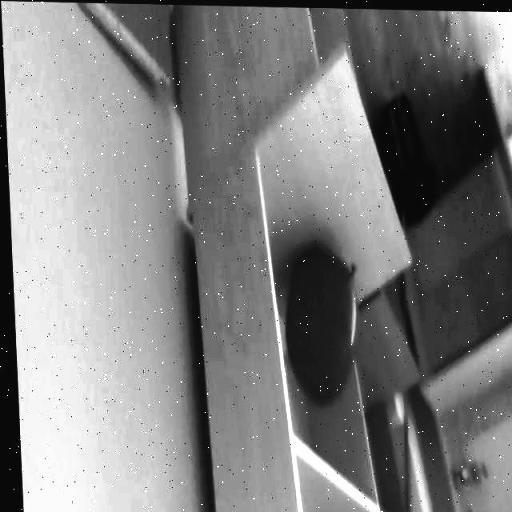balloon: (274, 236, 364, 420)
